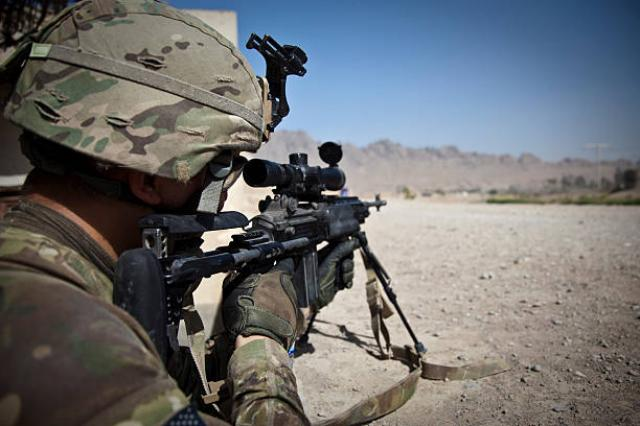other: (0, 1, 302, 421)
